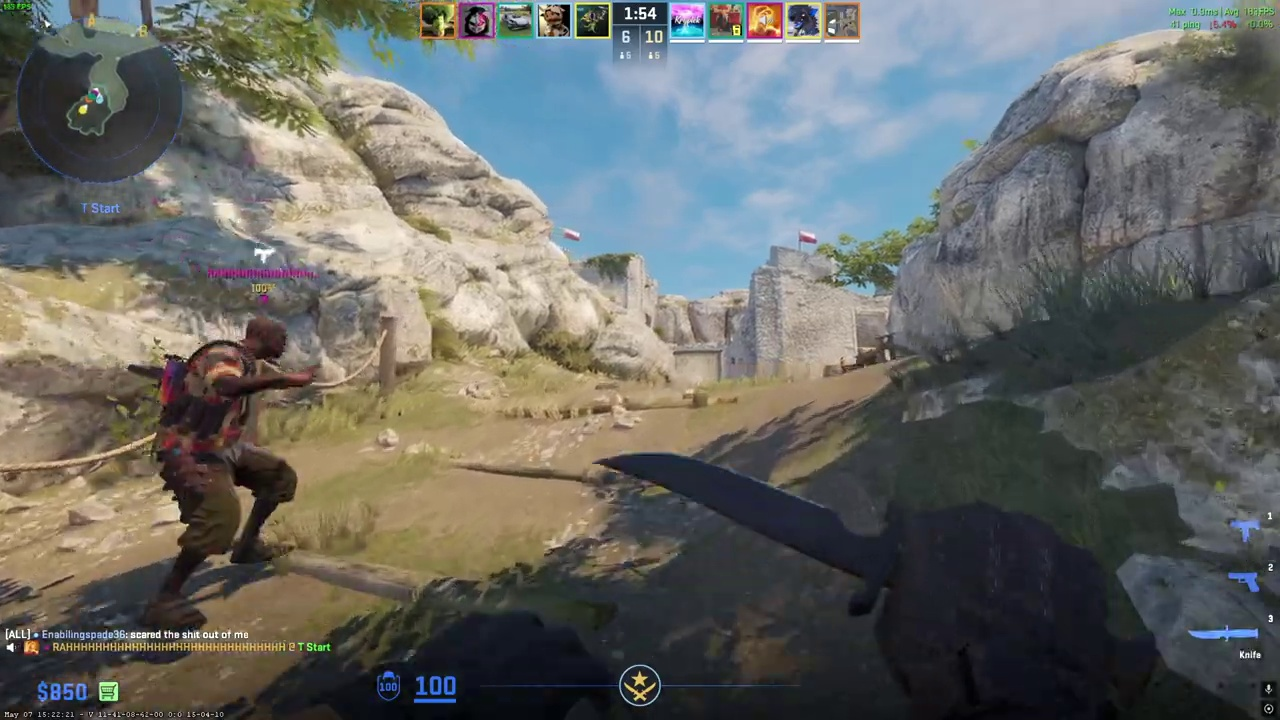Terrorist: (147, 316, 299, 621)
